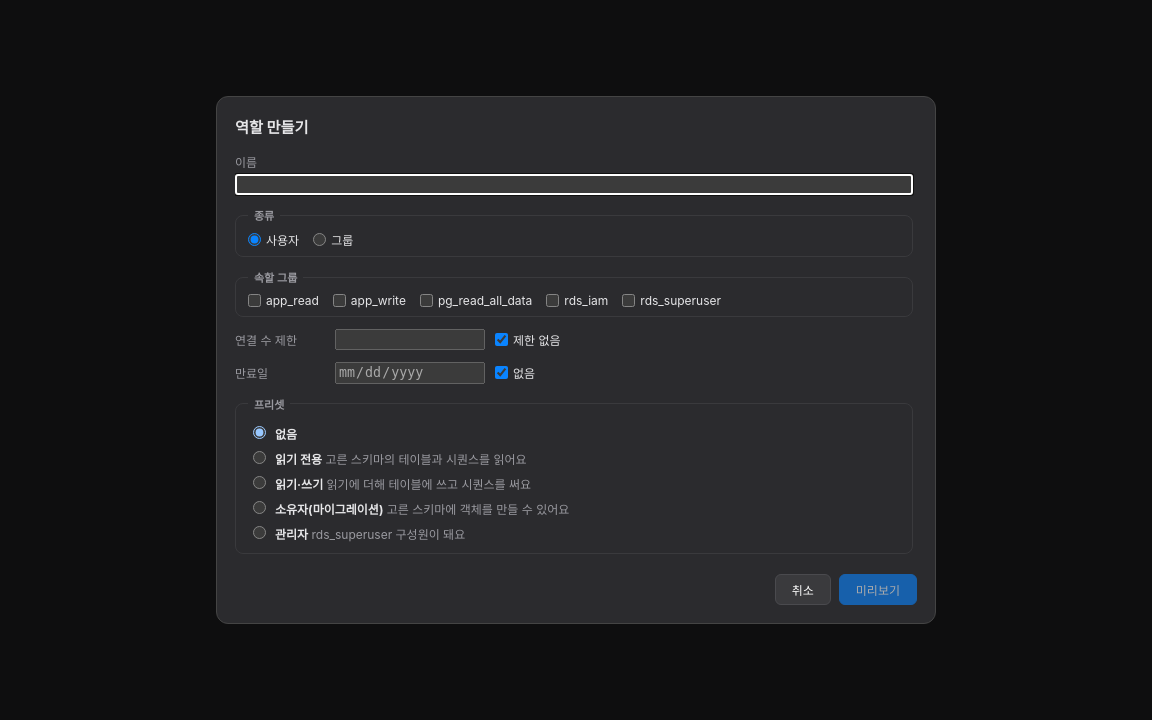
the name › pg_custom is refused with the backend's text
This screenshot has width=1152, height=720.
Type "pg_custom" into the field labelled "이름" at point(574, 185), box [235,174,913,195]
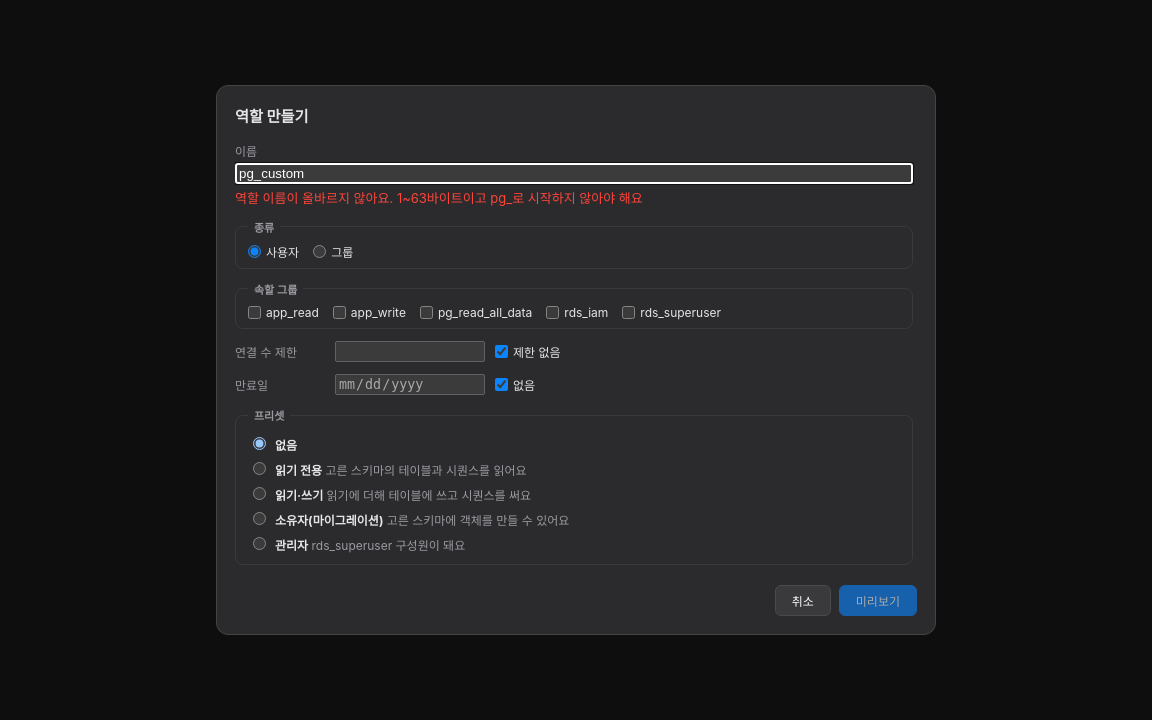
Expected: the button "미리보기" is disabled, [839,585,917,616]
Now the message reads "역할 이름이 올바르지 않아요. 1~63바이트이고 pg_로 시작하지 않아야 해요", box [235,190,643,206]
